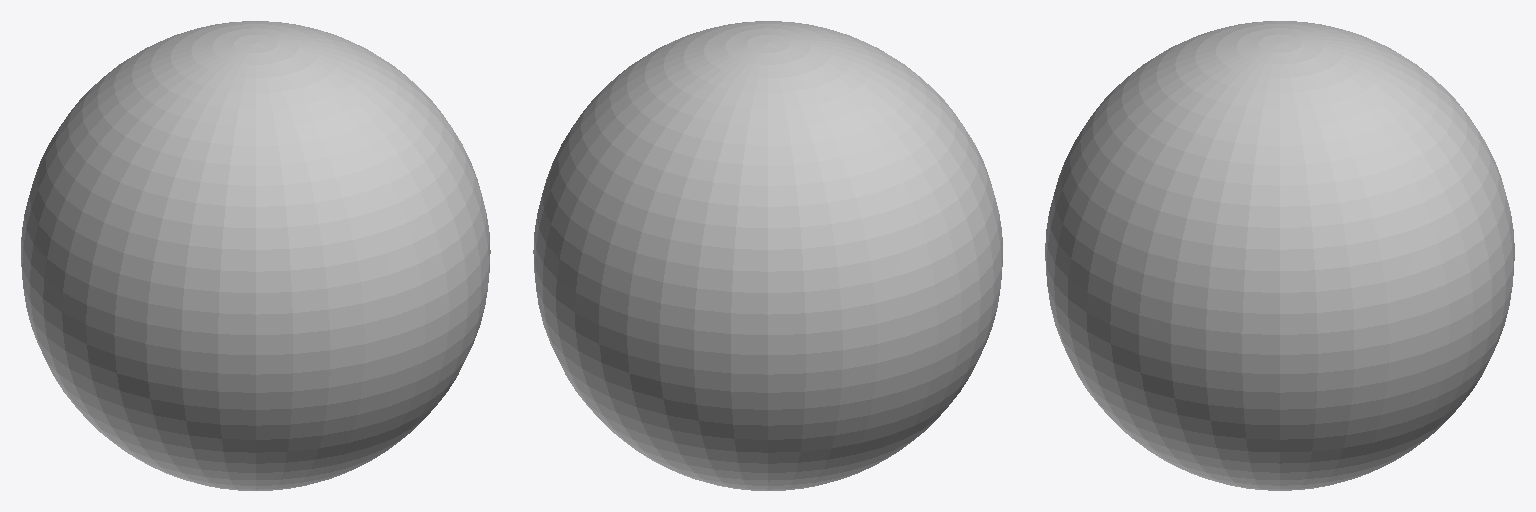
File: Earth.obj
3 views of the same model, side by side, from view 1: azimuth 30°, elevation 25°; view 2: azimuth 150°, elevation 25°; view 3: azimuth 270°, elevation 25° (orthographic).
Visible parts, largest first — view 1: pSphere1; view 2: pSphere1; view 3: pSphere1.
Boxes of the visible parts, box(x1,y1,x2,y2) form: pSphere1: box(21, 21, 490, 490); pSphere1: box(533, 21, 1002, 490); pSphere1: box(1045, 21, 1514, 490).
Size of the model in its own units: 24.29 by 24.33 by 24.31.